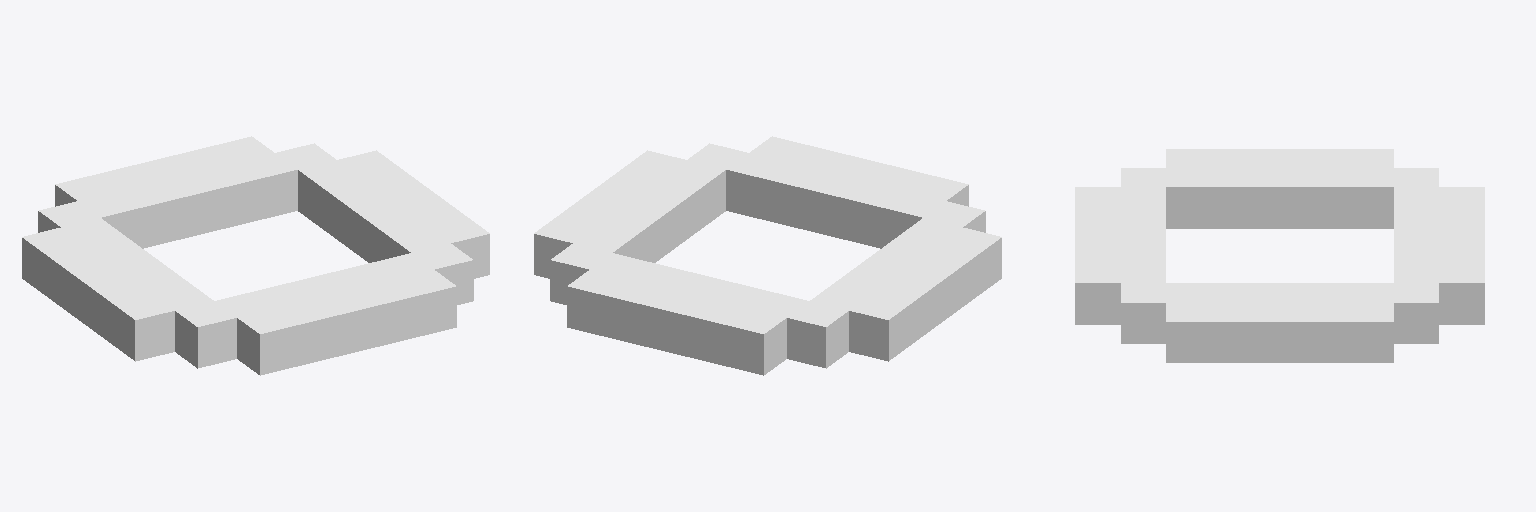
File: ring1.obj
The picture shows the model from 3 angles: view 1: azimuth 30°, elevation 25°; view 2: azimuth 150°, elevation 25°; view 3: azimuth 270°, elevation 25°; orthographic projection.
Bounding box in the file's own units: 9 × 1 × 9.